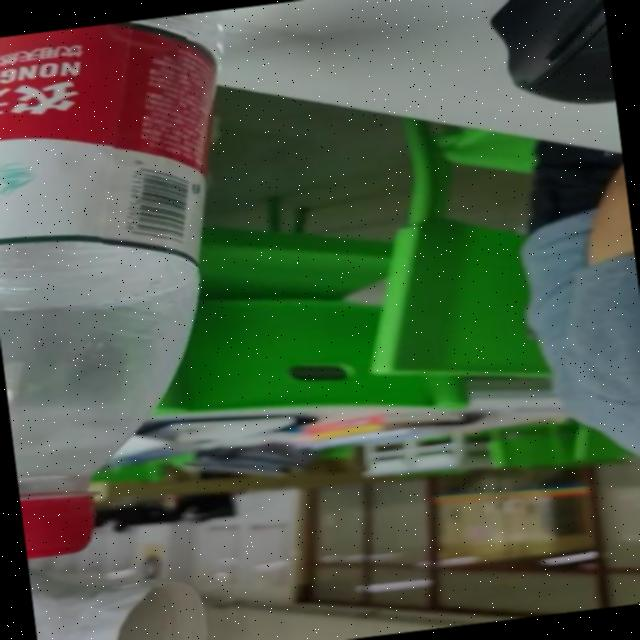bottle: (0, 9, 289, 567)
cap: (20, 494, 100, 560)
label: (0, 10, 243, 294)
